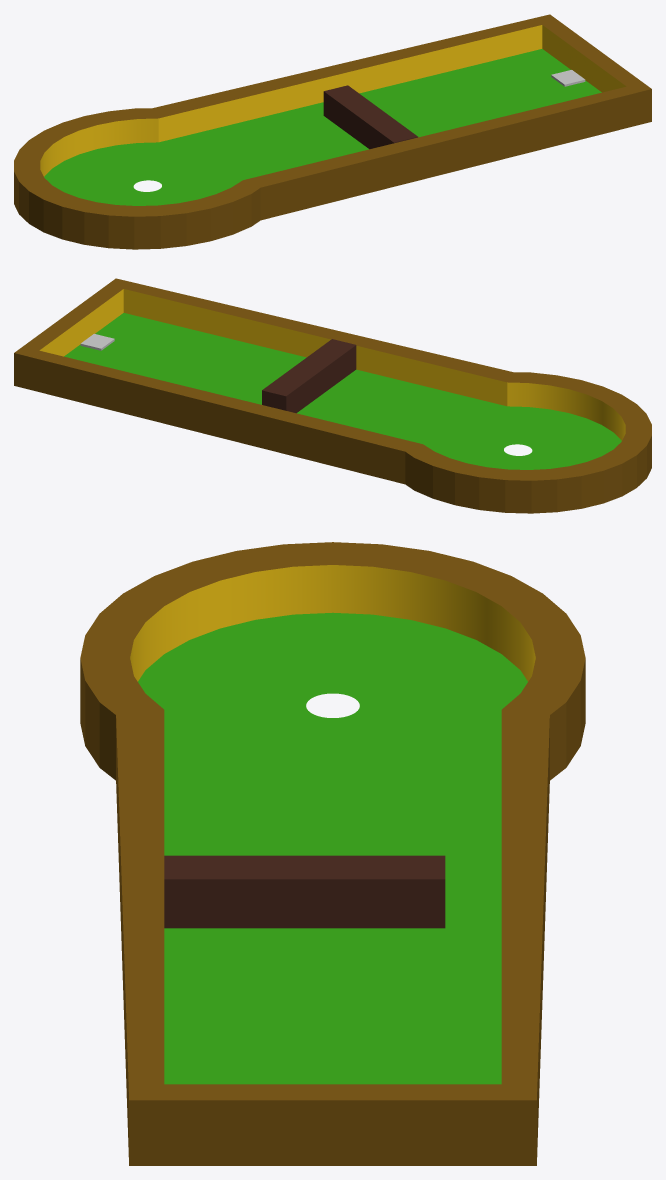
Rendered from playgroundLvl1.glb.
3 renders of one model, top to bottom at view 1: azimuth 30°, elevation 25°; view 2: azimuth 150°, elevation 25°; view 3: azimuth 270°, elevation 25°, orthographic. The views are drawn at different scales.
Visible parts, largest first — view 1: Circle, Cube, Plane; view 2: Circle, Cube, Plane; view 3: Circle, Cube.
Boxes of the visible parts, <box> form: Circle: <box>14,14,651,249</box>; Cube: <box>323,85,417,149</box>; Plane: <box>551,70,585,86</box>; Circle: <box>14,278,651,513</box>; Cube: <box>262,339,356,413</box>; Plane: <box>80,334,114,350</box>; Circle: <box>80,542,585,1165</box>; Cube: <box>164,855,445,928</box>.
Size of the model in its own units: 12.69 by 0.7107 by 4.85.
